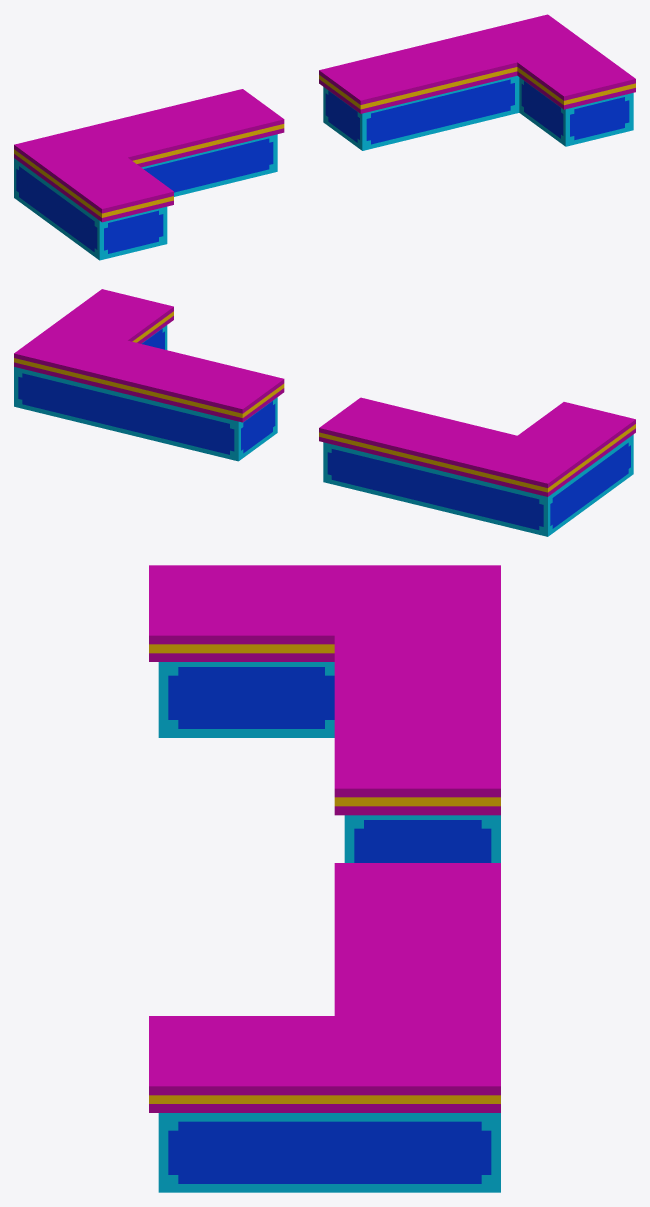
Rendered from level_2.7.obj.
The picture shows the model from 3 angles, top to bottom: view 1: azimuth 30°, elevation 25°; view 2: azimuth 150°, elevation 25°; view 3: azimuth 270°, elevation 25°; orthographic projection. The views are drawn at different scales.
Size of the model in its own units: 12.6 by 1.2 by 3.6.
Materials: 1 (1 with a texture image).
